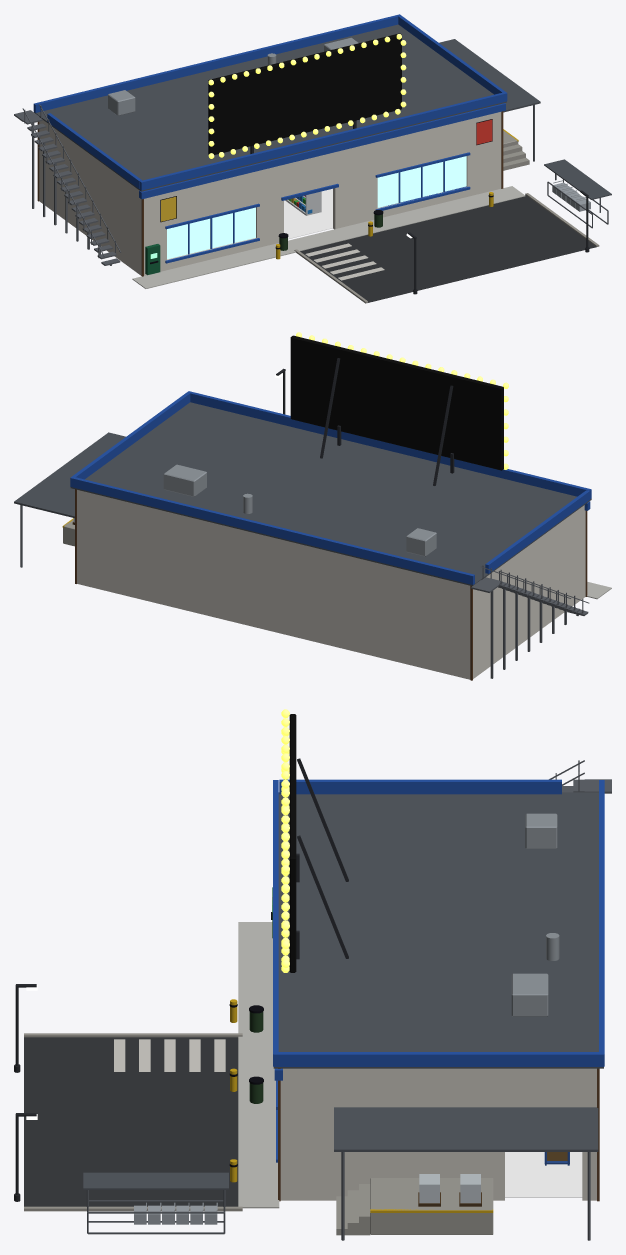
Rendered from tf-shop-p4.glb.
3 renders of one model, top to bottom at view 1: azimuth 30°, elevation 25°; view 2: azimuth 150°, elevation 25°; view 3: azimuth 270°, elevation 25°, orthographic. The views are drawn at different scales.
Parts seen in each view (by area): view 1: tf-shop-p4; view 2: tf-shop-p4; view 3: tf-shop-p4.
Part boxes in pixels (bbox=[...]): tf-shop-p4: bbox=[14, 14, 611, 303]; tf-shop-p4: bbox=[14, 332, 611, 680]; tf-shop-p4: bbox=[14, 709, 611, 1240].
Size of the model in its own units: 34.02 by 13.31 by 26.24.
